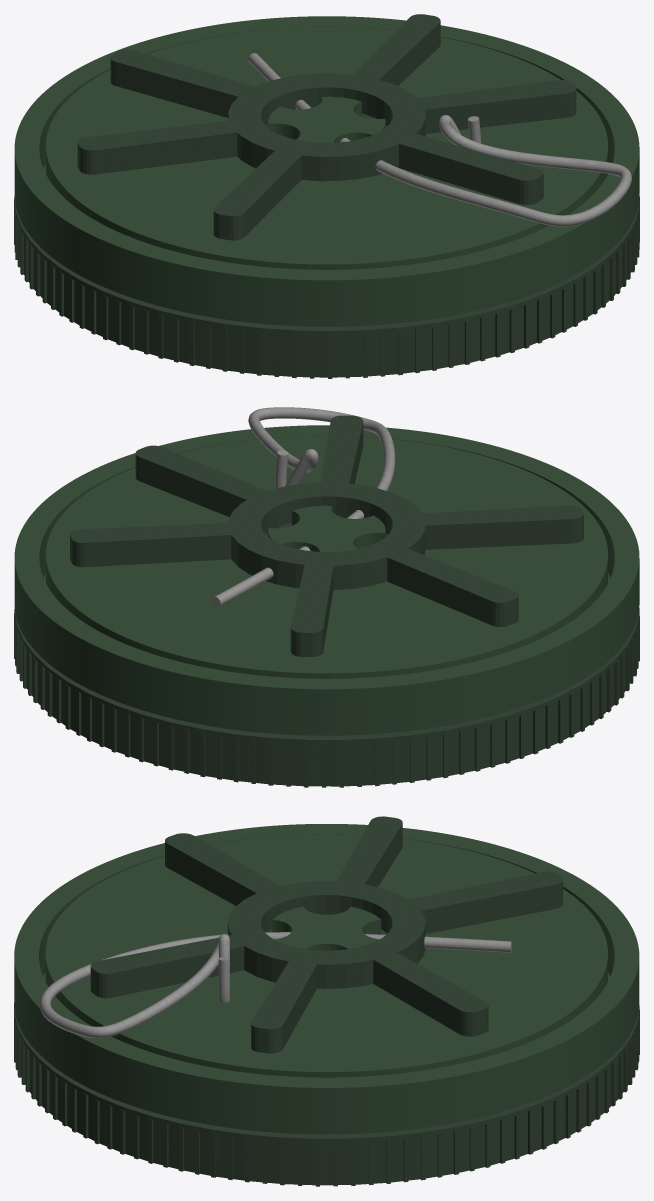
File: Mine.glb
3 renders of one model, top to bottom at view 1: azimuth 30°, elevation 25°; view 2: azimuth 150°, elevation 25°; view 3: azimuth 270°, elevation 25°, orthographic.
Parts seen in each view (by area): view 1: Cylinder.001, Cylinder.002, Cylinder, NurbsPath, Cylinder.003; view 2: Cylinder.001, Cylinder.002, Cylinder, NurbsPath, Cylinder.003; view 3: Cylinder.001, Cylinder.002, Cylinder, NurbsPath, Cylinder.003.
Part boxes in pixels (box(x1,y1,x2,y2)): Cylinder.001: box(14, 16, 639, 326); Cylinder.002: box(77, 14, 576, 240); Cylinder: box(14, 194, 639, 378); NurbsPath: box(248, 53, 631, 226); Cylinder.003: box(268, 96, 385, 142); Cylinder.001: box(14, 425, 639, 735); Cylinder.002: box(70, 415, 583, 656); Cylinder: box(14, 608, 639, 787); NurbsPath: box(211, 407, 395, 607); Cylinder.003: box(268, 505, 385, 551); Cylinder.001: box(14, 824, 639, 1134); Cylinder.002: box(90, 816, 562, 1053); Cylinder: box(14, 1003, 639, 1186); NurbsPath: box(39, 932, 511, 1037); Cylinder.003: box(272, 906, 381, 950).
Bounding box in the file's own units: 11.72 × 3.14 × 11.71.
Materials: 3 (2 with a texture image).
